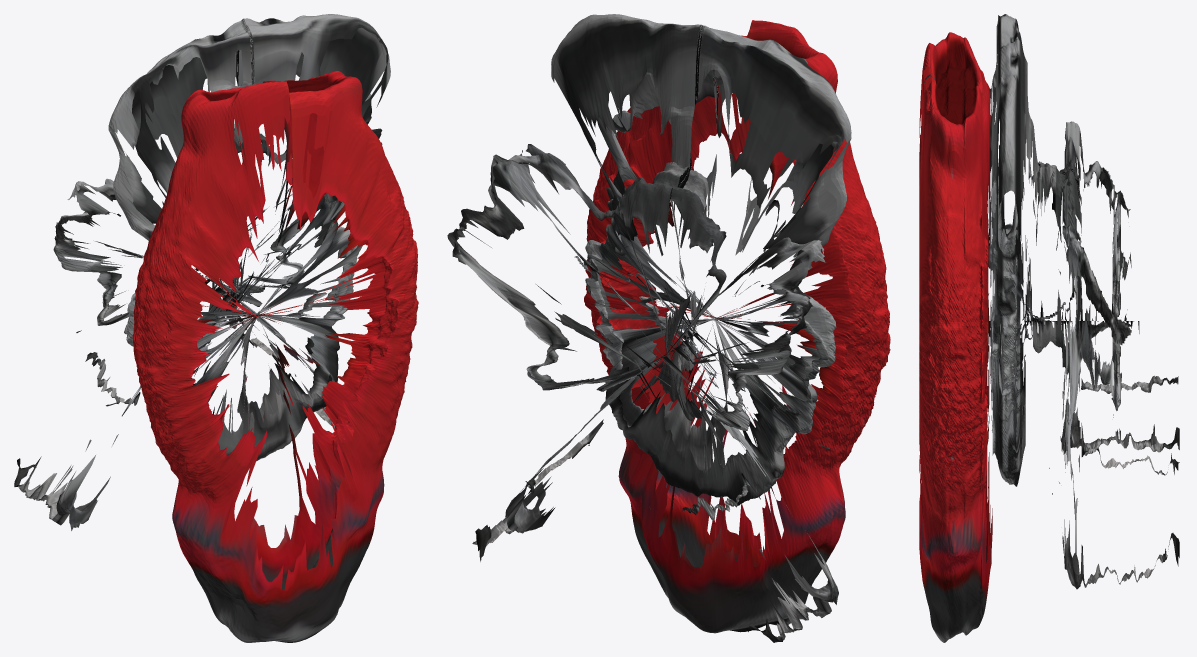
3 renders of one model, left to right at view 1: azimuth 30°, elevation 25°; view 2: azimuth 150°, elevation 25°; view 3: azimuth 270°, elevation 25°, orthographic. The views are drawn at different scales.
Parts seen in each view (by area): view 1: geometry_0; view 2: geometry_0; view 3: geometry_0.
Boxes of the visible parts, x1,y1,x2,y2 form: geometry_0: (14, 14, 418, 642); geometry_0: (447, 14, 890, 642); geometry_0: (919, 14, 1179, 642).
Bounding box in the file's own units: 1.09 × 1.79 × 0.728.
Materials: 1 (1 with a texture image).
